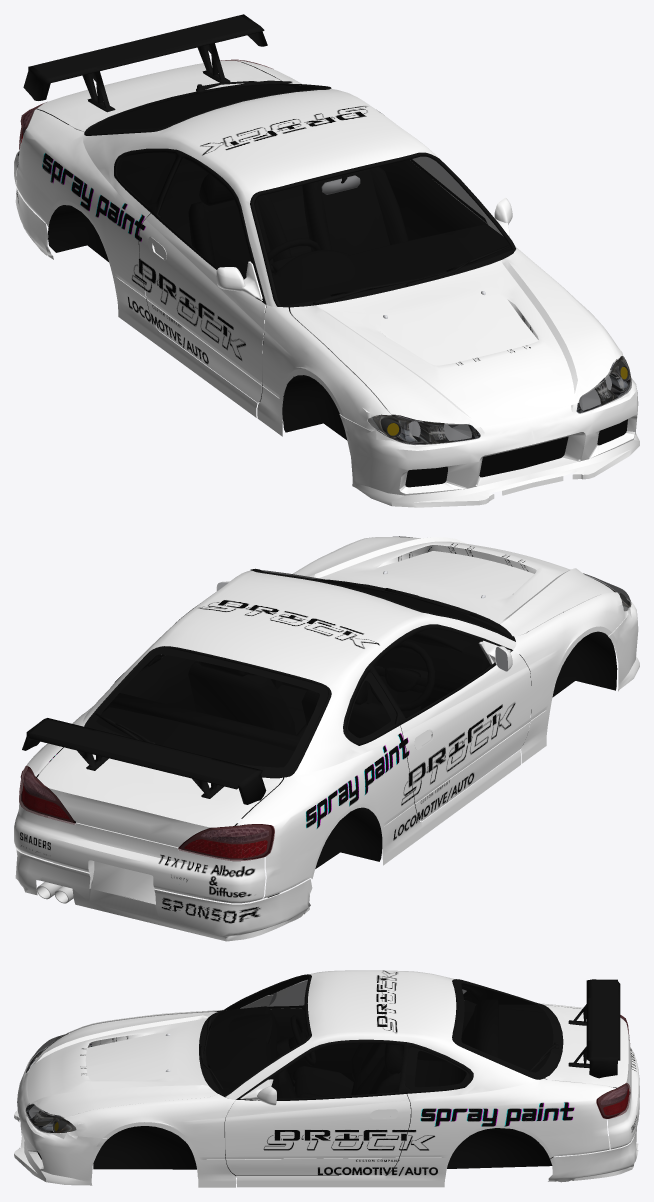
The model's file is VehicleModel1.fbx.
The picture shows the model from 3 angles, top to bottom: view 1: azimuth 30°, elevation 25°; view 2: azimuth 150°, elevation 25°; view 3: azimuth 270°, elevation 25°; orthographic projection. The views are drawn at different scales.
Visible parts, largest first — view 1: VehicleModel1; view 2: VehicleModel1; view 3: VehicleModel1.
Boxes of the visible parts, x1,y1,x2,y2 form: VehicleModel1: (14,14,639,507); VehicleModel1: (14,536,639,941); VehicleModel1: (14,970,639,1187).
Size of the model in its own units: 226 by 138 by 557.
